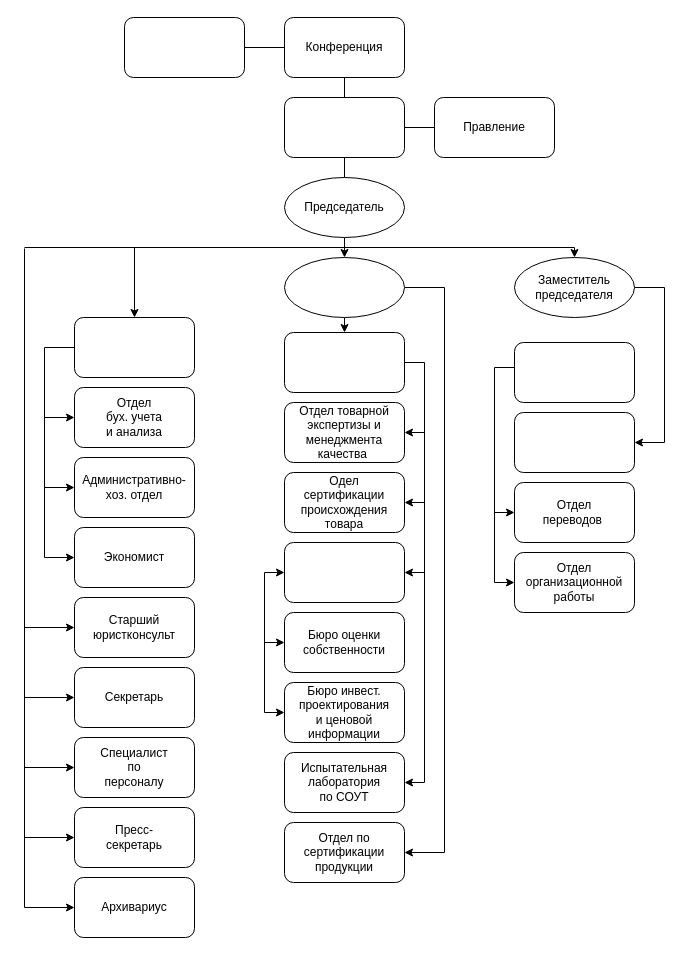
This 690x955 diagram has some shape labels left out. Each missing label, with the centre of its shape:
"Департамент бух. отчетности и административно-хоз. деятельность" goes at (134,347).
"Департамент предпринимательской деятельности и внешних связей" goes at (574,372).
"Департамент экспертизы и сертификации" goes at (344,362).
"Одел оценки собственности и инвестиционного проектирования" goes at (344,572).
"Отдел информационных технологий" goes at (574,442).
"Первый заместитель председателя" goes at (344,287).
"Ревизионная комиссия" goes at (184,47).
"Совет" goes at (344,127).
